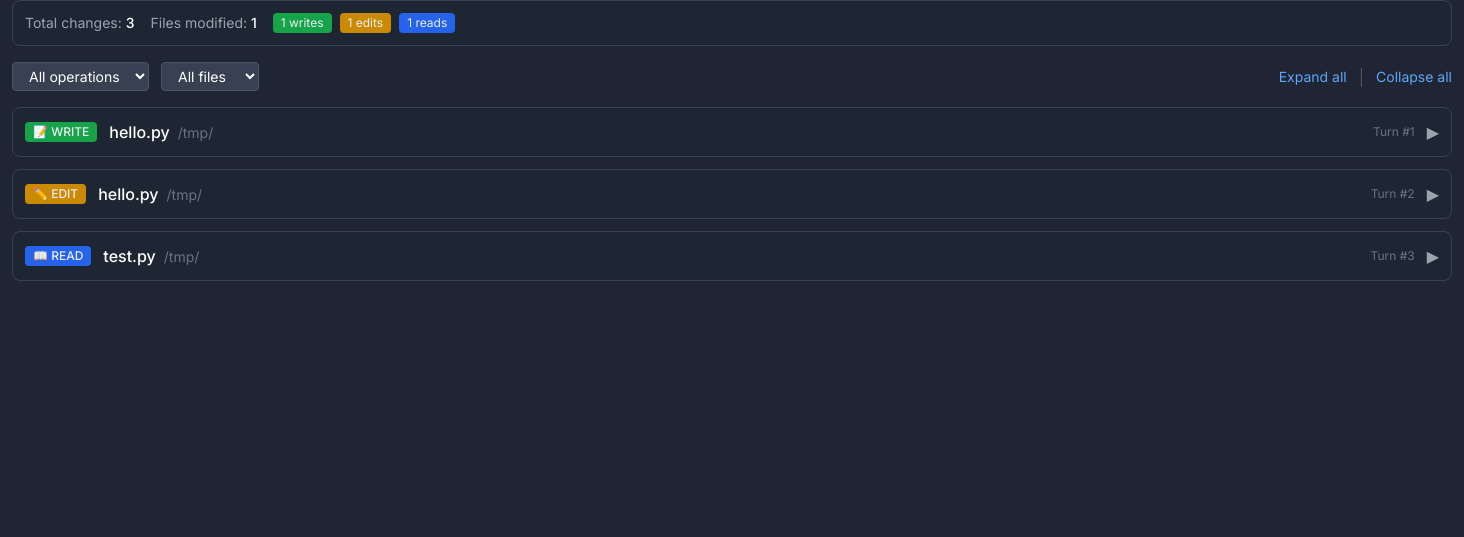
CodeDiffViewer › expands all cards
// Click expand all
Step 1. Click the button "Expand all" → click(1313, 76), box [1279,66,1347,86]
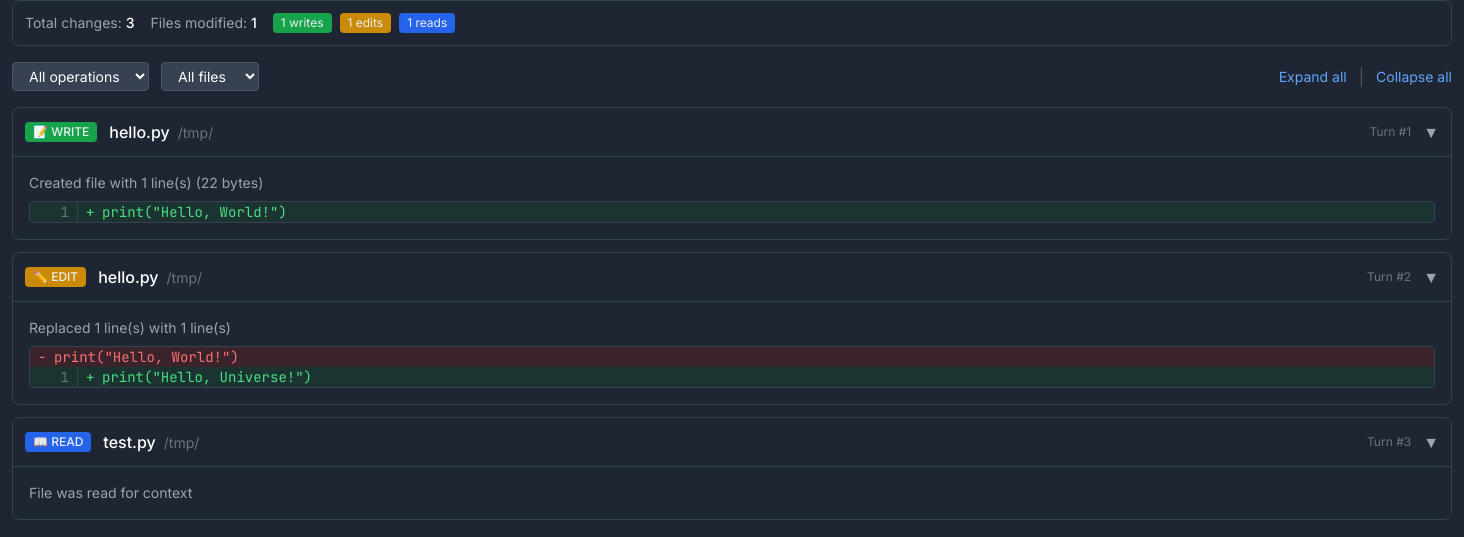
Expected: the text "Replaced 1 line(s) with 1 line(s)" is shown, [29,319,231,336]
Expected: the text "File was read for context" is shown, [29,484,192,501]
